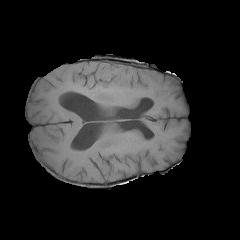glioma: (66, 63, 150, 97)
